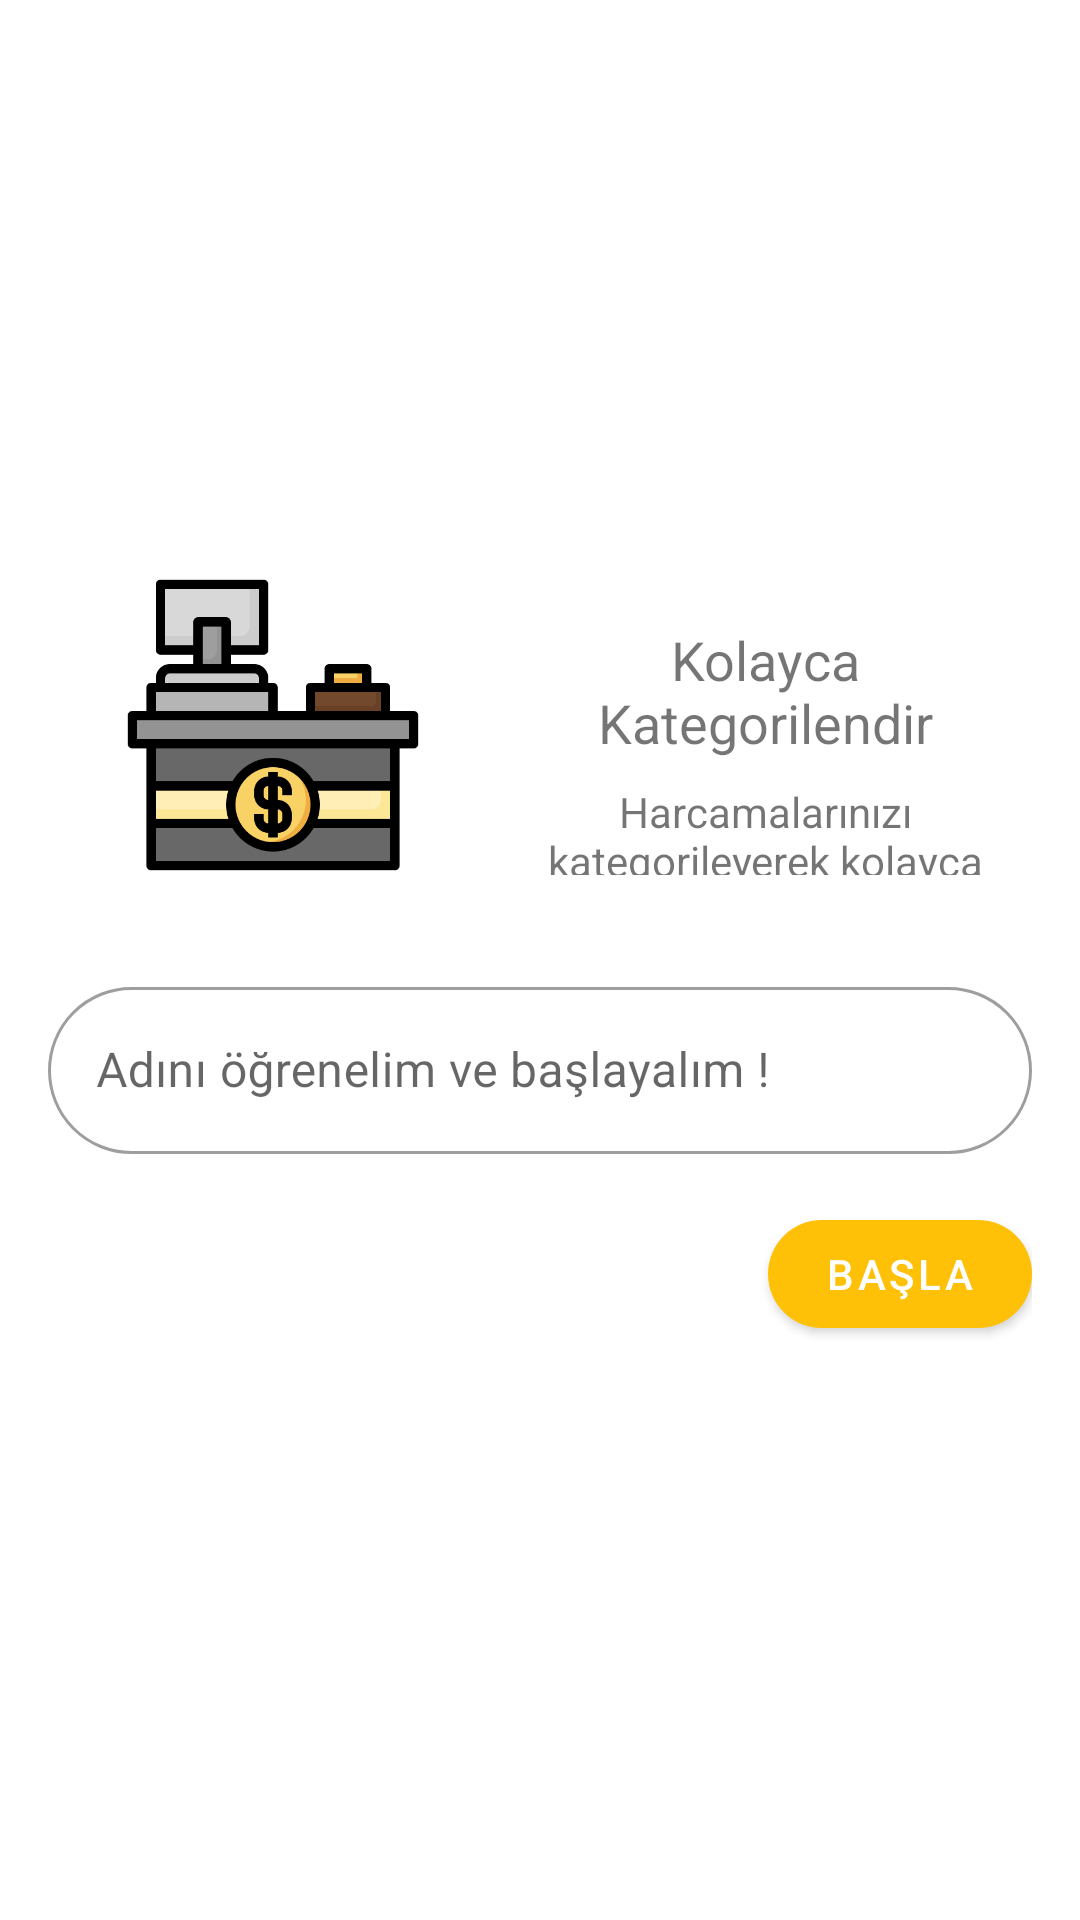

Where icons sit on this 1080w x 1920h app screen, as (x1, y1, x2, y2):
cashier: (127, 579, 419, 871)
